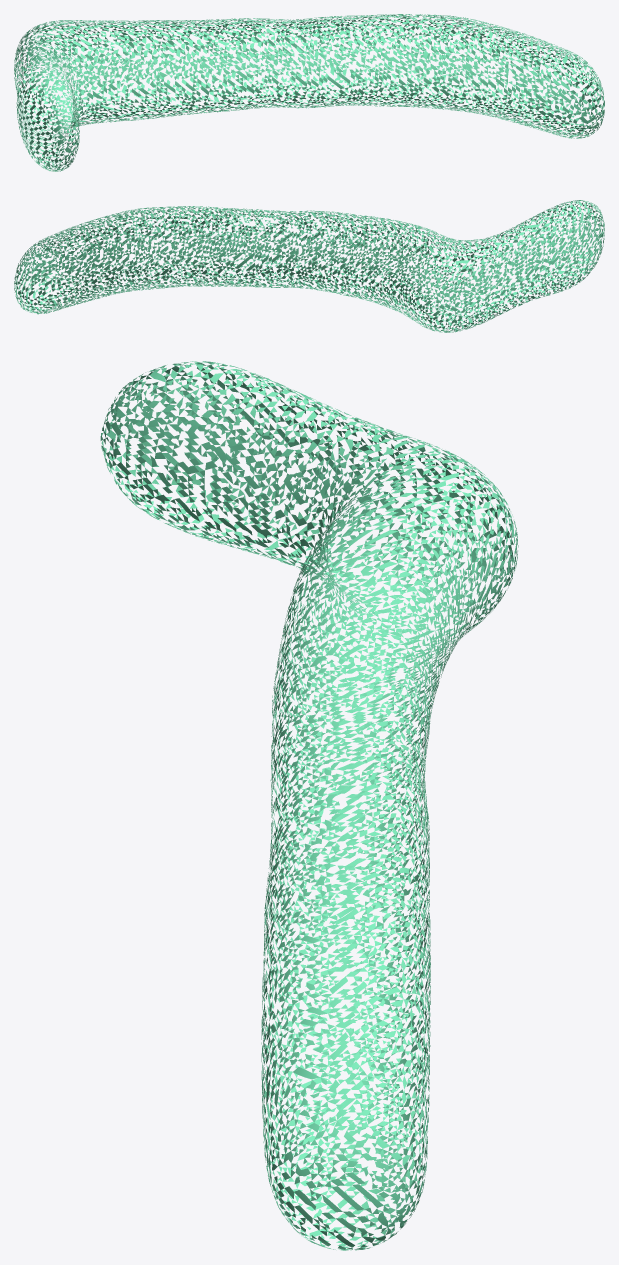
The model's file is healthy.glb.
The picture shows the model from 3 angles, top to bottom: view 1: azimuth 30°, elevation 25°; view 2: azimuth 150°, elevation 25°; view 3: azimuth 270°, elevation 25°; orthographic projection. The views are drawn at different scales.
Size of the model in its own units: 115 by 42.05 by 39.49.
